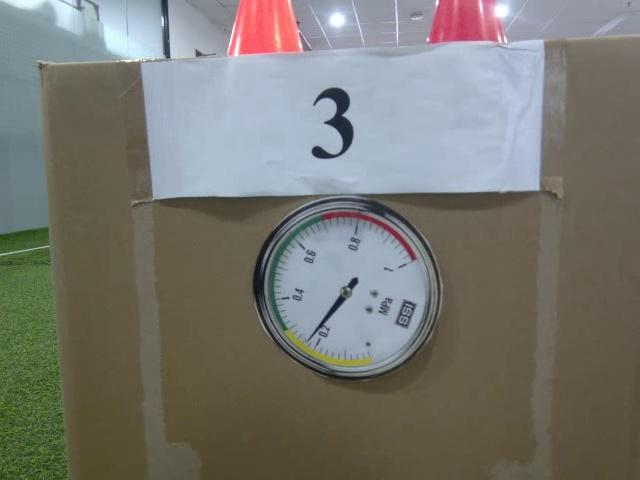3: (309, 81, 354, 164)
Dashboard: (252, 195, 446, 384)
orange_barrel: (224, 0, 304, 56)
red_barrel: (427, 0, 508, 46)
ssi: (396, 294, 416, 330)
